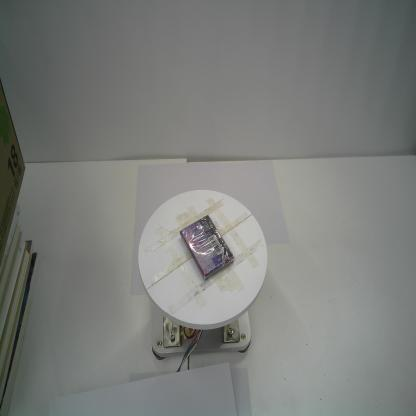Gum: (179, 214, 235, 281)
